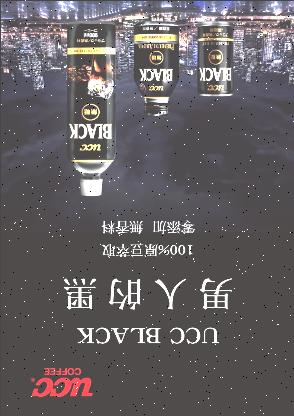Can: (196, 21, 232, 95)
Plastic Bottle: (69, 21, 115, 195), (133, 20, 182, 118)
